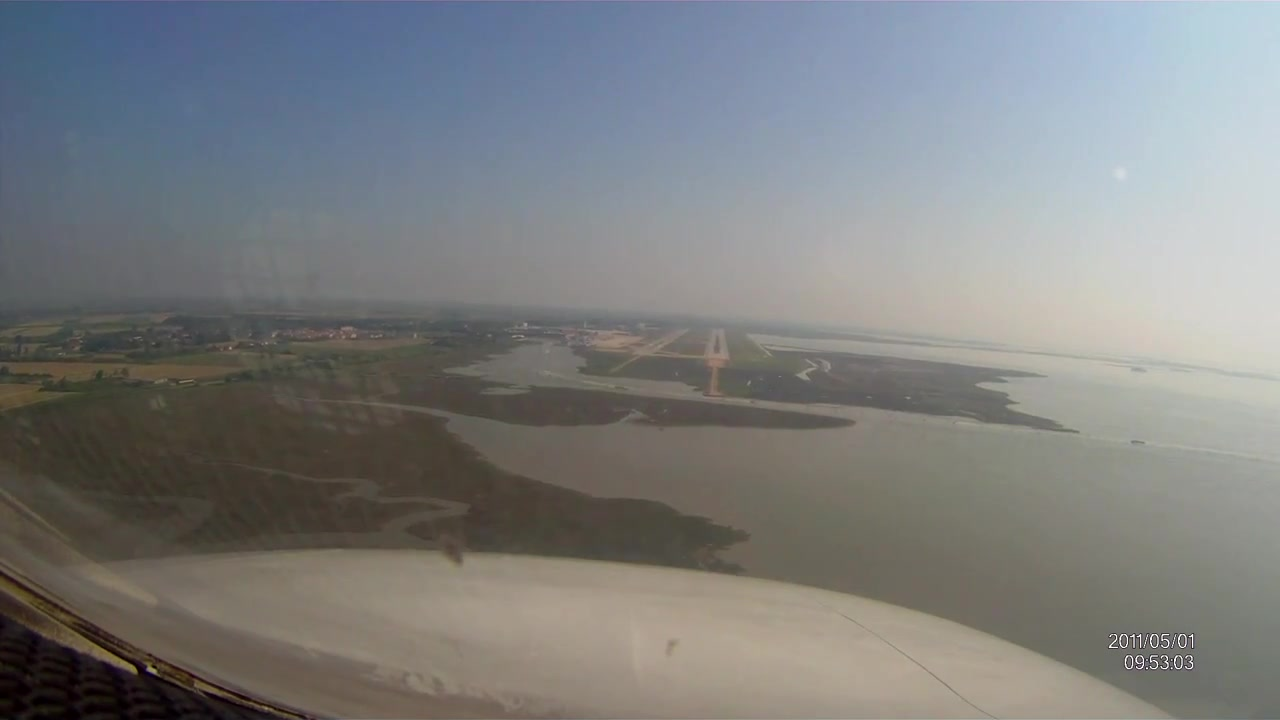runway: (635, 326, 694, 356), (702, 327, 729, 361)
